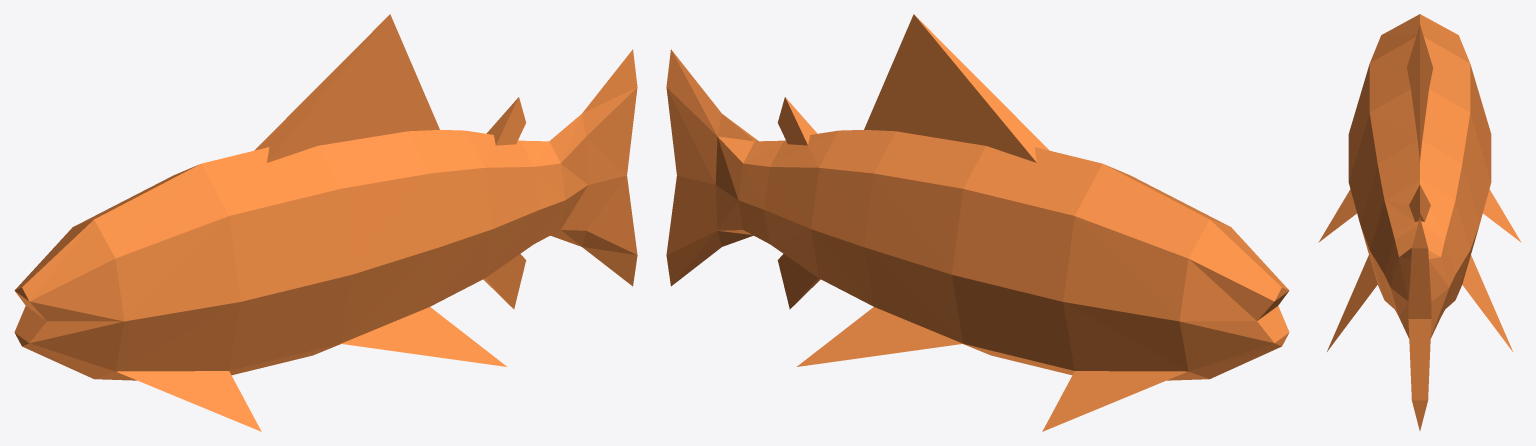
File: fish.obj
The picture shows the model from 3 angles, left to right: view 1: azimuth 30°, elevation 25°; view 2: azimuth 150°, elevation 25°; view 3: azimuth 270°, elevation 25°; orthographic projection. The views are drawn at different scales.
Size of the model in its own units: 0.2049 by 0.1063 by 0.0653.
